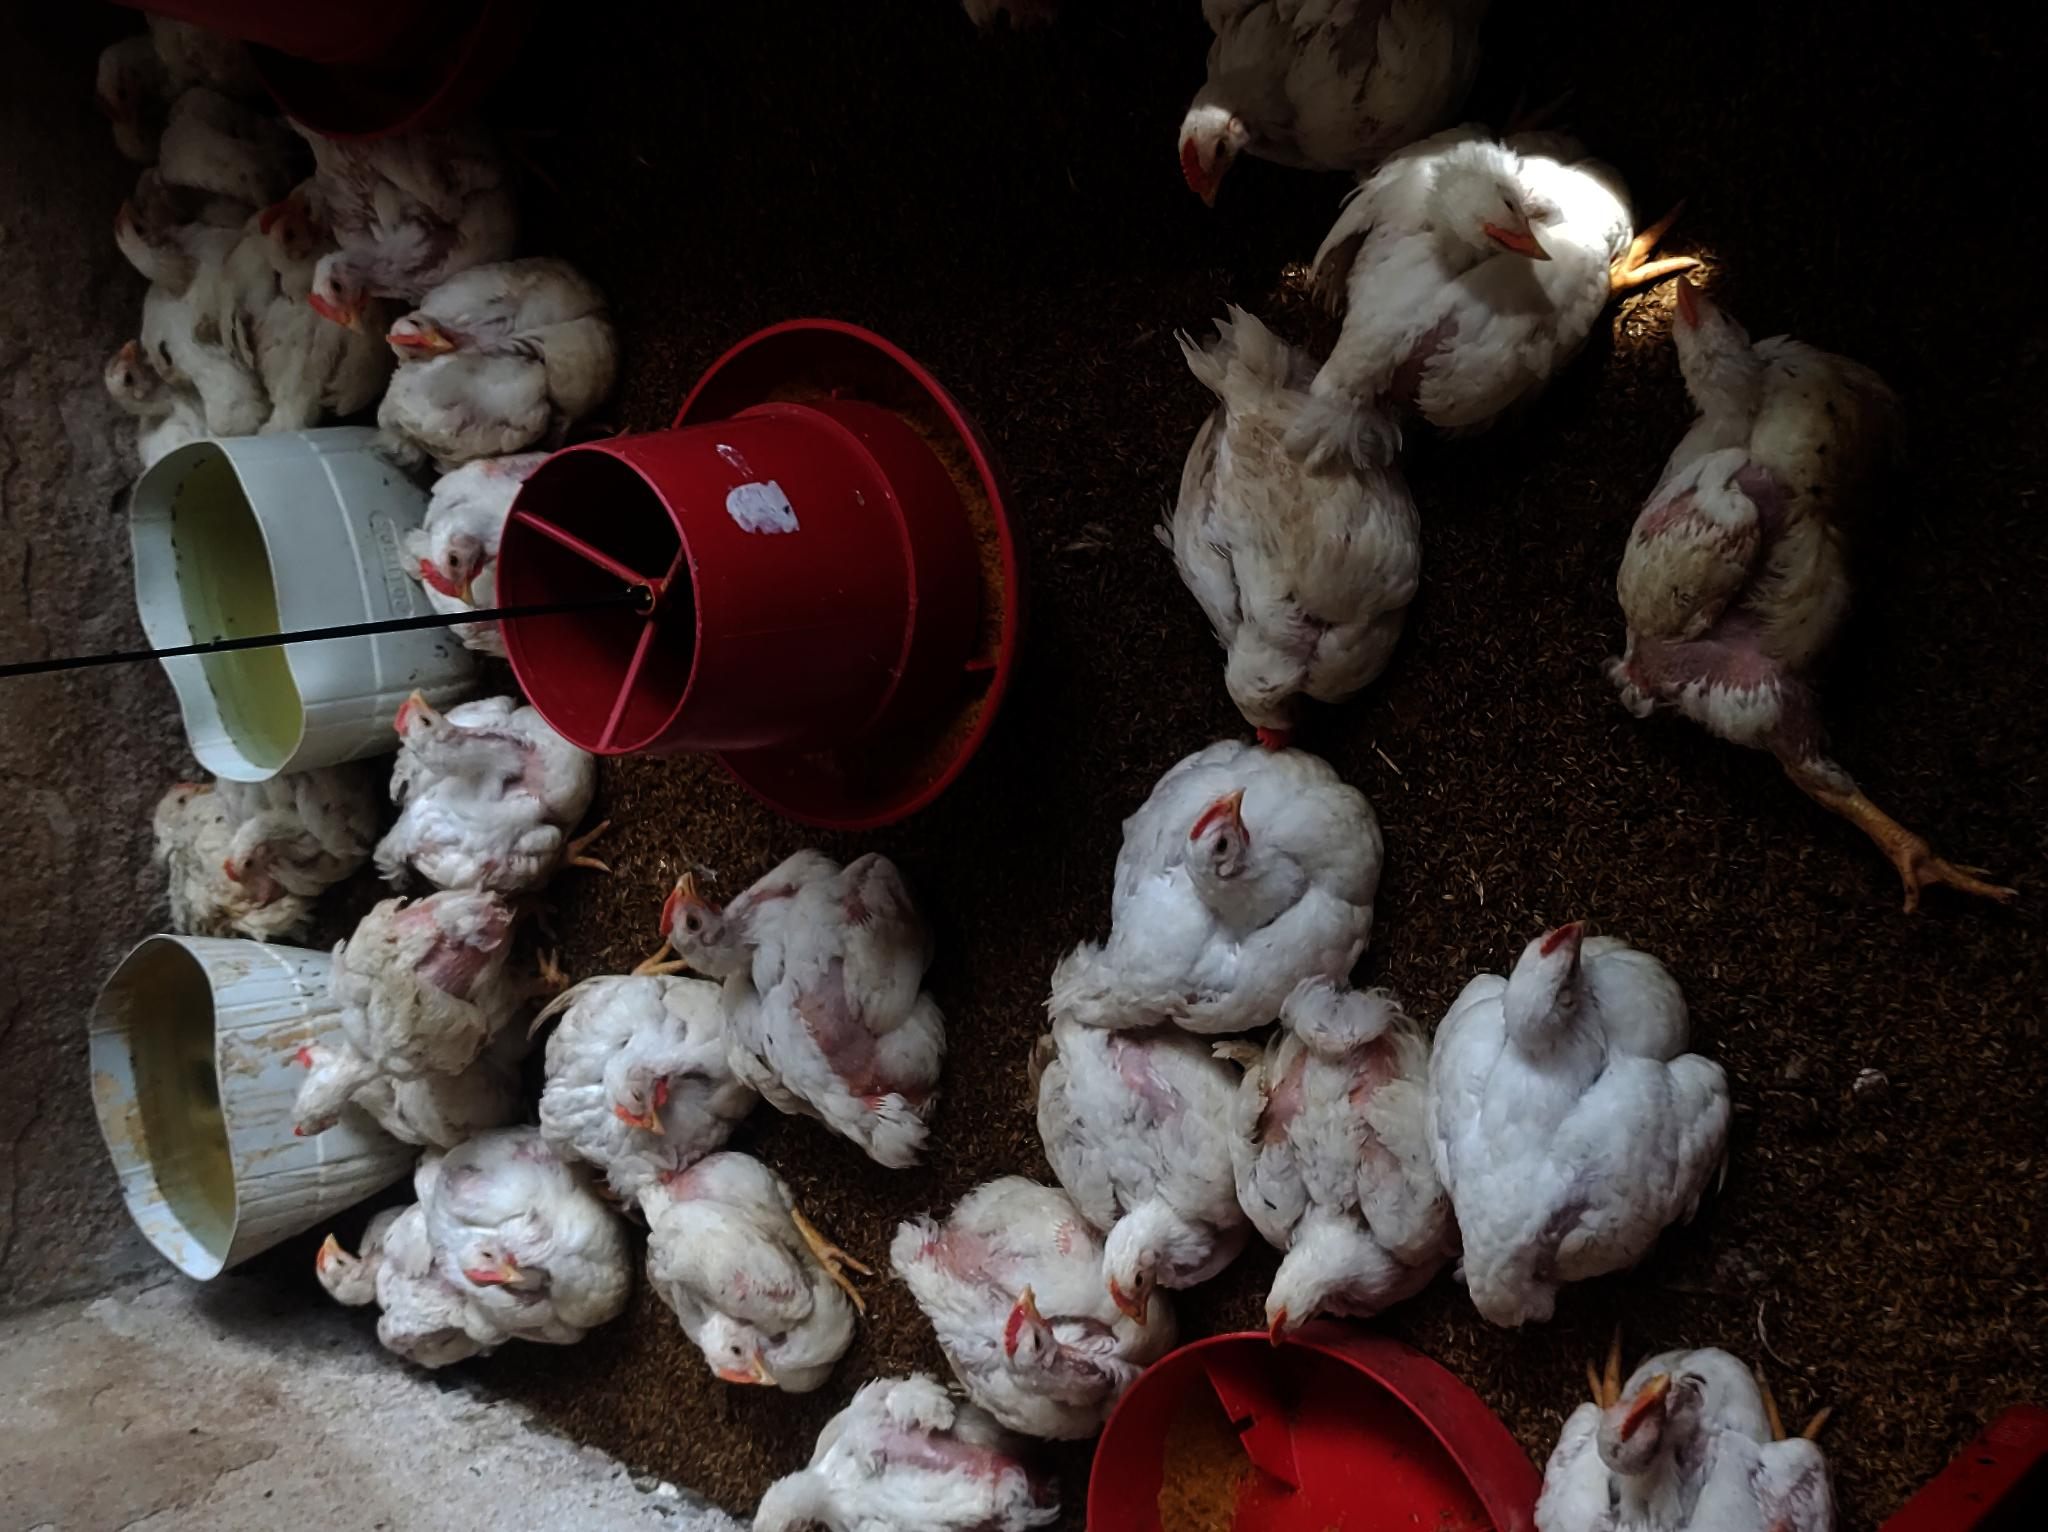Pollos: (1565, 309, 1921, 766), (1433, 896, 1741, 1310), (1168, 299, 1421, 756), (640, 822, 951, 1131), (1022, 954, 1269, 1307), (1096, 735, 1371, 1032), (1330, 158, 1676, 386), (1232, 970, 1446, 1324), (270, 880, 523, 1180), (880, 1186, 1174, 1439), (1186, 0, 1495, 217), (504, 937, 779, 1162), (1538, 1316, 1820, 1532), (150, 726, 365, 1007), (618, 1155, 869, 1374), (356, 674, 587, 900), (389, 457, 639, 655), (386, 245, 624, 451), (775, 1366, 1054, 1532), (417, 1159, 621, 1378), (335, 80, 497, 340), (298, 1204, 460, 1374), (93, 188, 232, 333), (97, 336, 198, 470), (257, 198, 325, 323)
